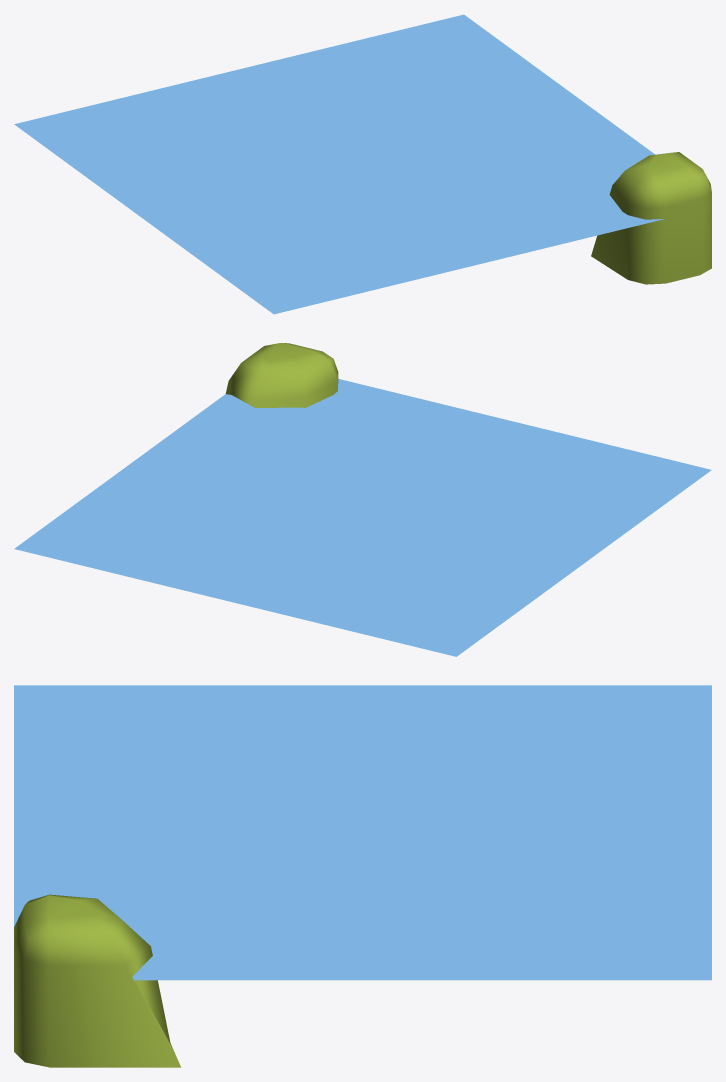
The model's file is Bloco_Rio_Quina.fbx.
The picture shows the model from 3 angles, top to bottom: view 1: azimuth 30°, elevation 25°; view 2: azimuth 150°, elevation 25°; view 3: azimuth 270°, elevation 25°; orthographic projection. The views are drawn at different scales.
Parts seen in each view (by area): view 1: Bloco_Rio_Quina; view 2: Bloco_Rio_Quina; view 3: Bloco_Rio_Quina.
Boxes of the visible parts, <box> form: Bloco_Rio_Quina: <box>14,14,711,314</box>; Bloco_Rio_Quina: <box>14,343,711,656</box>; Bloco_Rio_Quina: <box>14,685,711,1067</box>.
Size of the model in its own units: 240 by 50.72 by 240.
